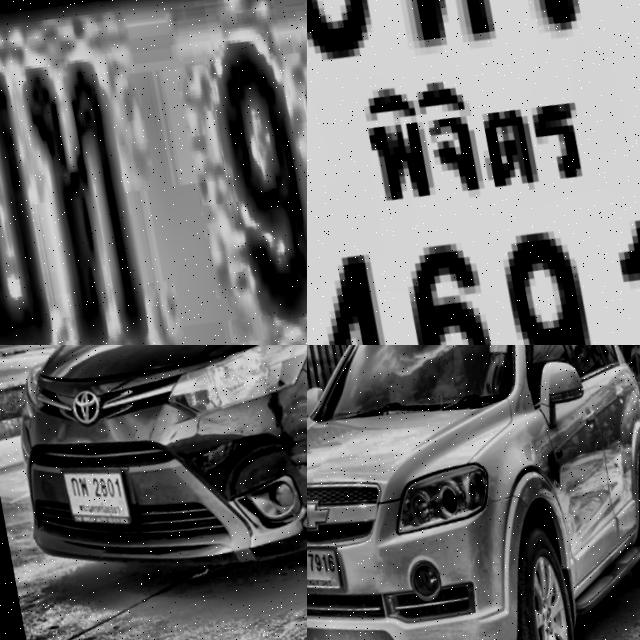license-plate: (307, 0, 640, 345), (0, 0, 307, 345), (58, 446, 144, 539), (307, 524, 353, 602)
